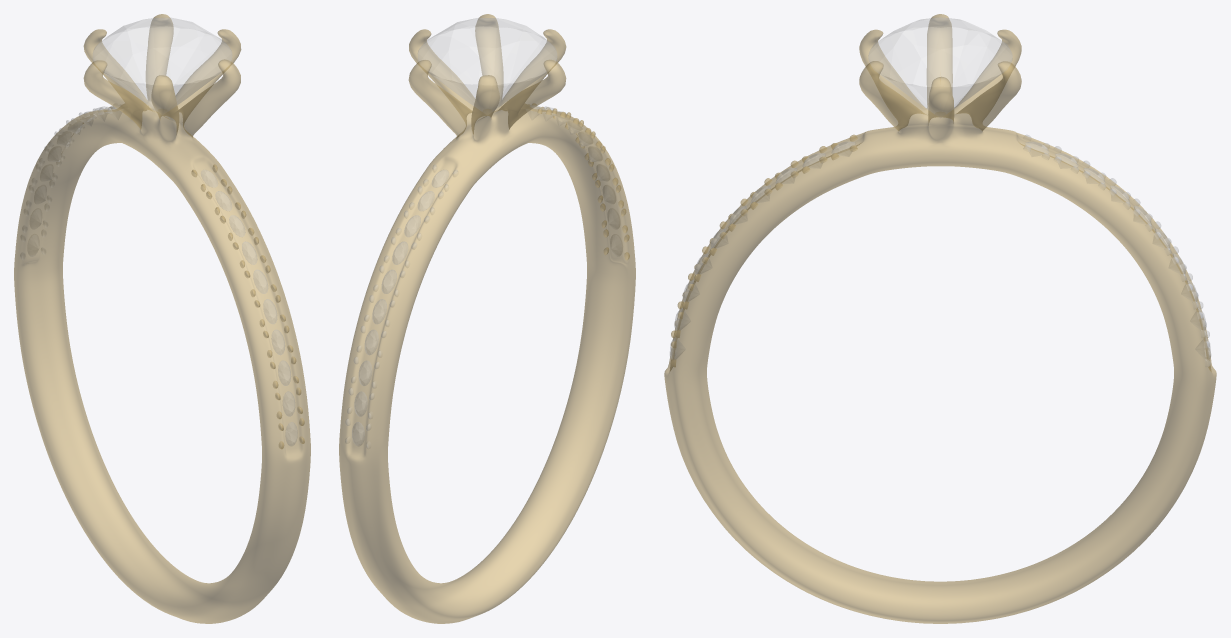
3 renders of one model, left to right at view 1: azimuth 30°, elevation 25°; view 2: azimuth 150°, elevation 25°; view 3: azimuth 270°, elevation 25°, orthographic. The views are drawn at different scales.
Parts seen in each view (by area): view 1: Ring, Diamond; view 2: Ring, Diamond; view 3: Ring, Diamond.
Boxes of the visible parts, x1,y1,x2,y2 form: Ring: (14, 14, 310, 623); Diamond: (20, 18, 297, 446); Ring: (339, 14, 635, 623); Diamond: (345, 18, 622, 448); Ring: (664, 14, 1216, 623); Diamond: (670, 17, 1210, 366).
Bounding box in the file's own units: 0.7773 × 2.75 × 2.34.
